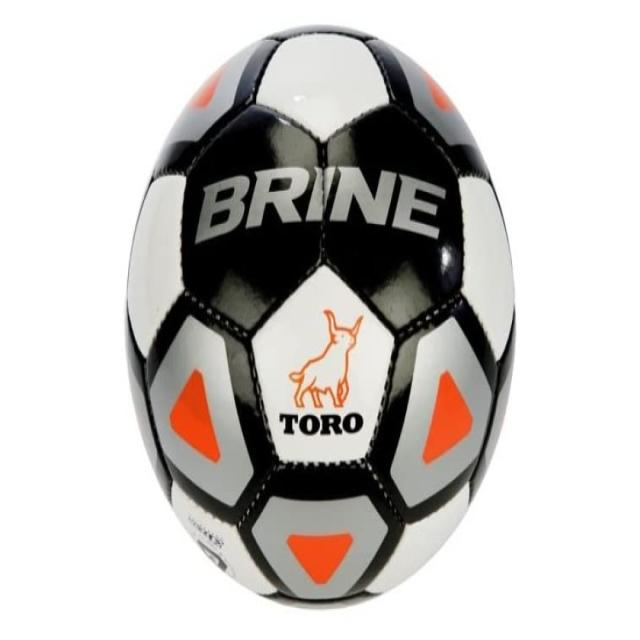soccer ball: (129, 23, 516, 610)
